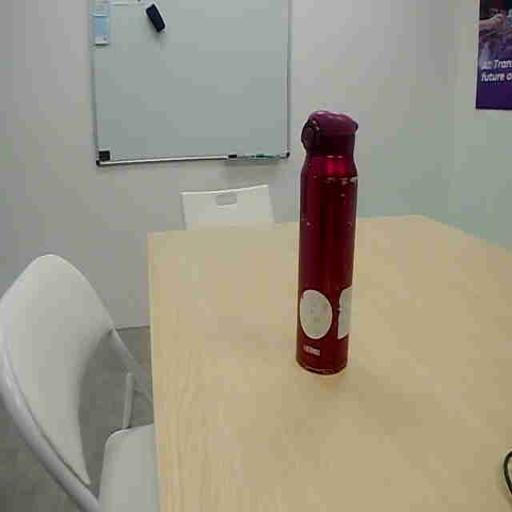bottle: (296, 111, 357, 374)
